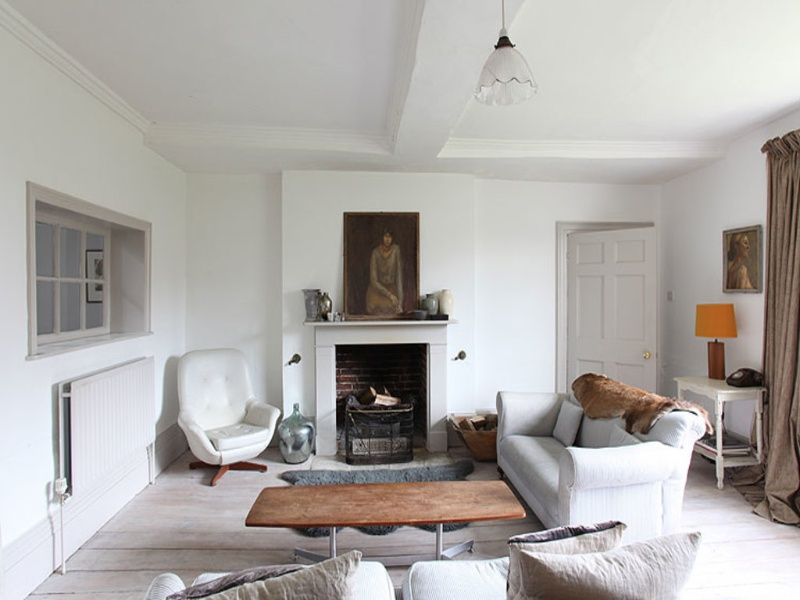couch: (470, 373, 705, 524)
